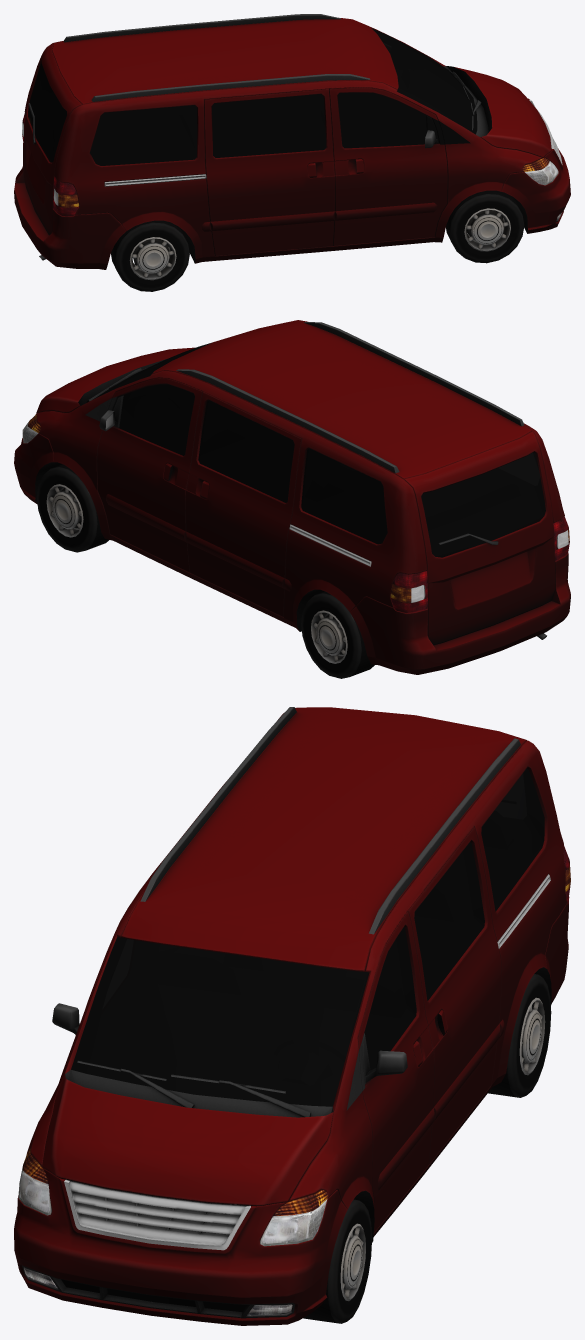
Rendered from car1.dae.
3 views of the same model, one above another, from view 1: azimuth 30°, elevation 25°; view 2: azimuth 150°, elevation 25°; view 3: azimuth 270°, elevation 25° (orthographic). The views are drawn at different scales.
Parts seen in each view (by area): view 1: Wheel_D003_Wheel_0; view 2: Wheel_D003_Wheel_0; view 3: Wheel_D003_Wheel_0.
Part boxes in pixels (x1,y1,x2,y2): Wheel_D003_Wheel_0: (14,14,570,291); Wheel_D003_Wheel_0: (14,320,570,678); Wheel_D003_Wheel_0: (14,707,570,1325).
Size of the model in its own units: 4.62 by 2.81 by 1.76.
